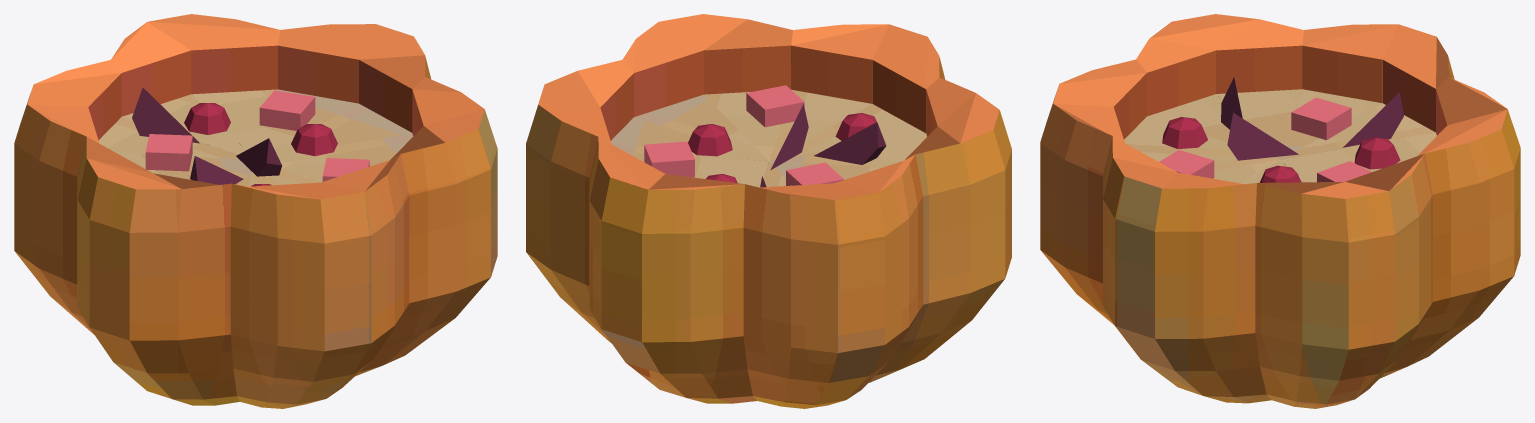
File: pumpkin_bowl-optimized.glb
3 views of the same model, side by side, from view 1: azimuth 30°, elevation 25°; view 2: azimuth 150°, elevation 25°; view 3: azimuth 270°, elevation 25° (orthographic).
Visible parts, largest first — view 1: cylinder, sphere (×5), cuboid (×3); view 2: cylinder, sphere (×4), cuboid (×3); view 3: cylinder, sphere (×6), cuboid (×3).
Boxes of the visible parts, box(x1,y1,x2,y2) form: cylinder: box(14, 14, 497, 408); sphere (×5): box(132, 87, 337, 184); cuboid (×3): box(145, 90, 369, 181); cylinder: box(526, 14, 1011, 408); sphere (×4): box(688, 104, 886, 170); cuboid (×3): box(644, 85, 843, 185); cylinder: box(1040, 14, 1520, 408); sphere (×6): box(1162, 77, 1403, 182); cuboid (×3): box(1159, 97, 1371, 182).
Size of the model in its own units: 0.5992 by 0.389 by 0.6248.
Materials: 1 (1 with a texture image).
